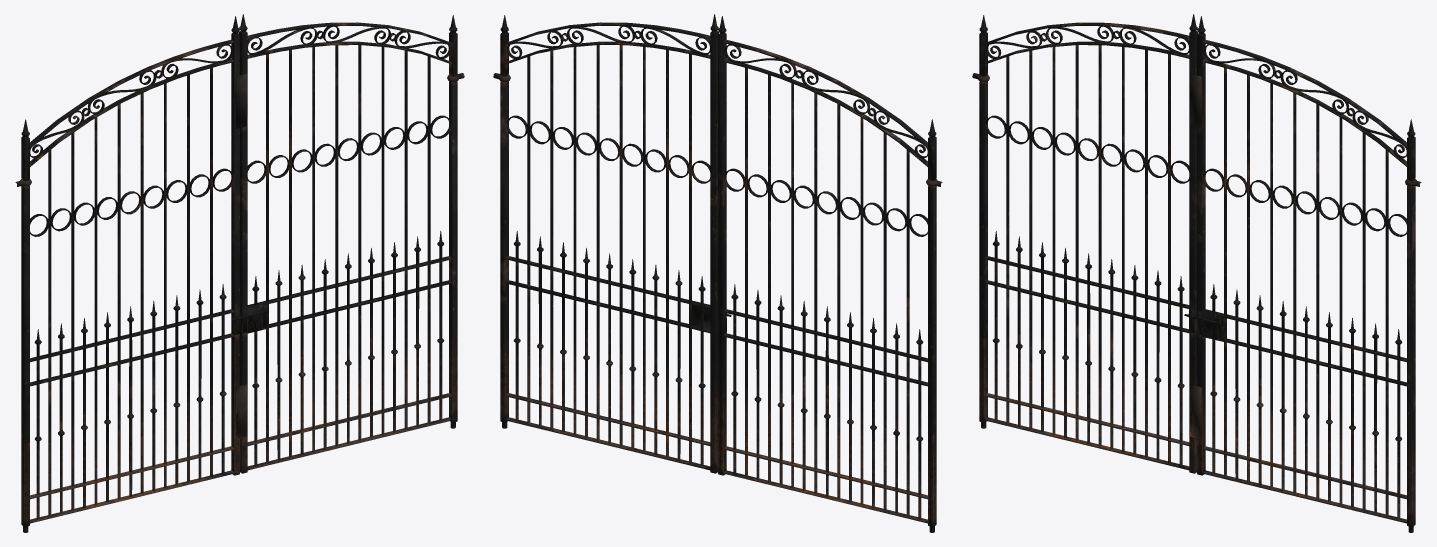
File: large_iron_gate.glb
3 views of the same model, side by side, from view 1: azimuth 30°, elevation 25°; view 2: azimuth 150°, elevation 25°; view 3: azimuth 330°, elevation 25° (orthographic).
Visible parts, largest first — view 1: large_iron_gate_right_door, large_iron_gate_left_door; view 2: large_iron_gate_left_door, large_iron_gate_right_door; view 3: large_iron_gate_right_door, large_iron_gate_left_door.
Boxes of the visible parts, x1,y1,x2,y2 form: large_iron_gate_right_door: (235, 14, 457, 473); large_iron_gate_left_door: (21, 16, 241, 532); large_iron_gate_left_door: (718, 16, 936, 532); large_iron_gate_right_door: (500, 14, 718, 473); large_iron_gate_right_door: (1190, 16, 1415, 532); large_iron_gate_left_door: (979, 14, 1197, 473).
Size of the model in its own units: 2.95 by 2.93 by 0.0973.
Materials: 1 (1 with a texture image).
